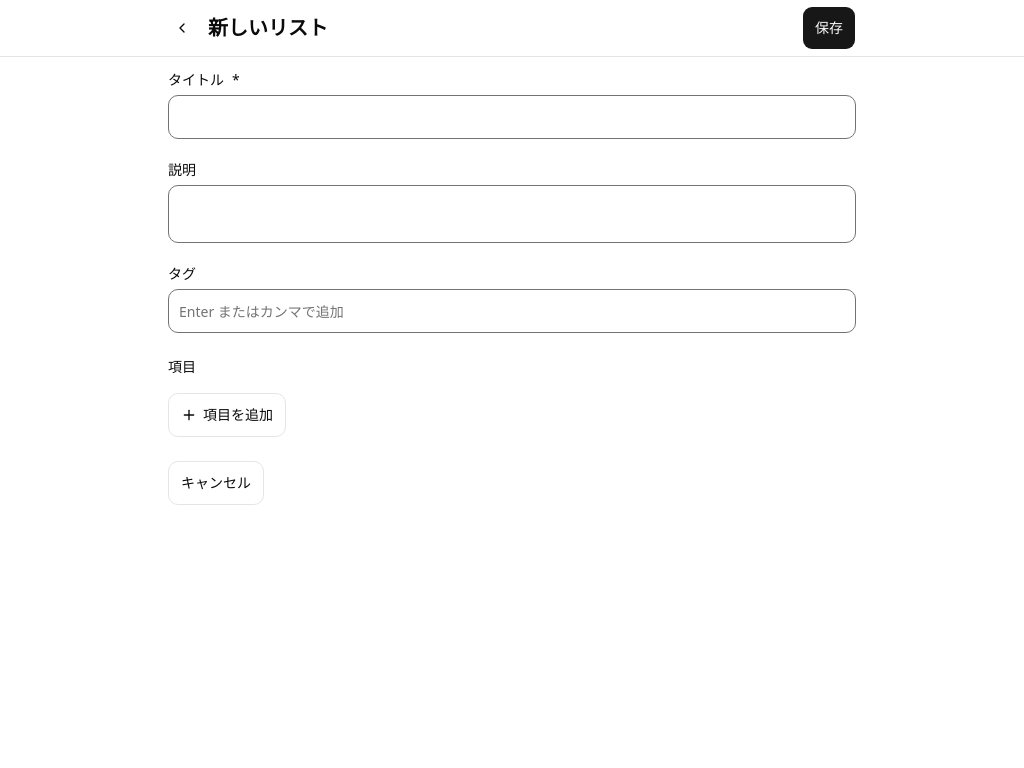
Test: ListEdit（新規作成） › 検証エラーは欄の直下に出して保存を止め、最初のエラー欄にフォーカスする。空行は捨てない
Expected: the heading "新しいリスト" is shown, [208,14,328,41]
Click the button "項目を追加": {"x": 227, "y": 415} [168,393,286,437]
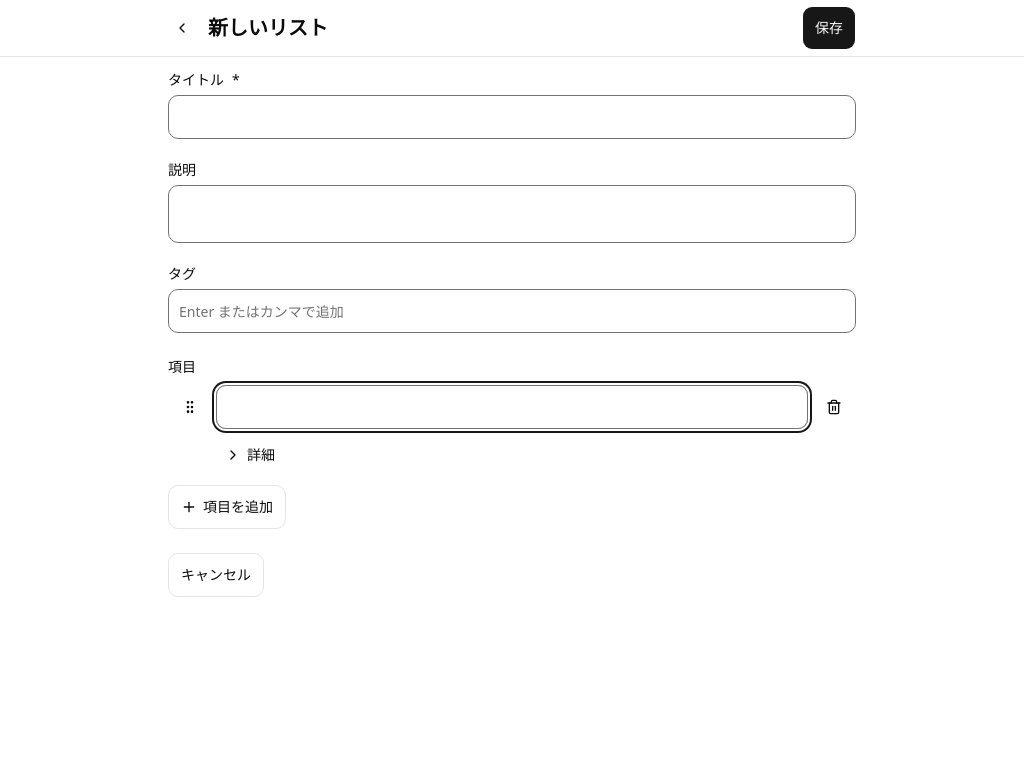
In the field named "項目 1": {"x": 512, "y": 407} [216,385,808,429], type "一つ目"
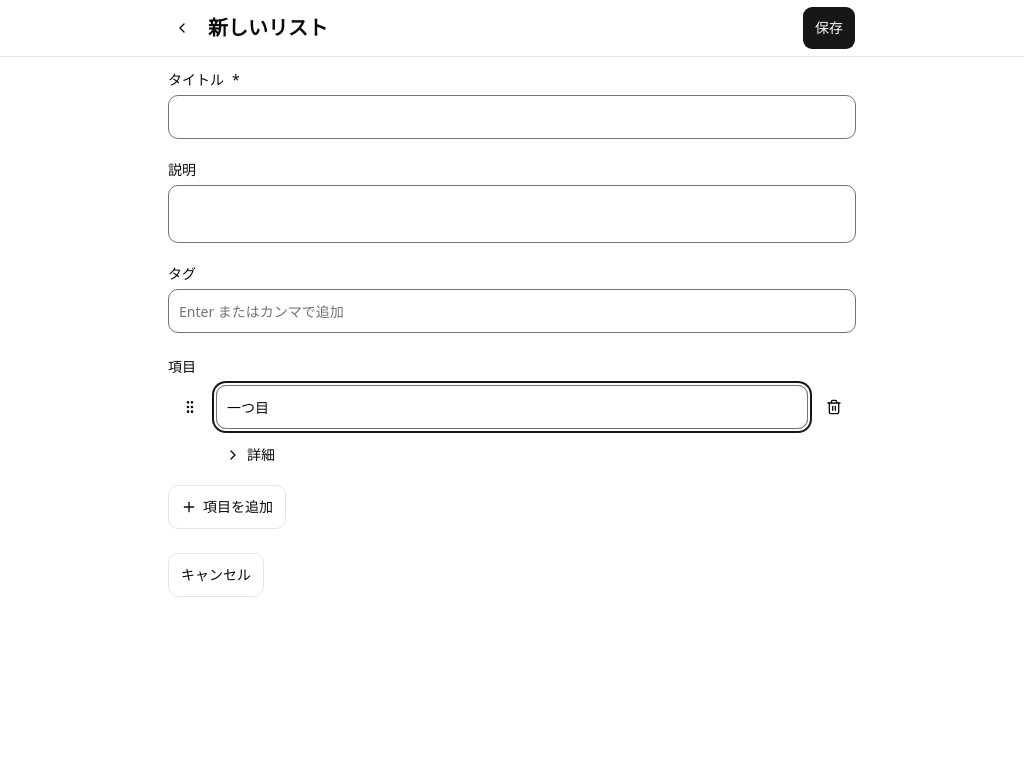
Click the button "項目を追加": {"x": 227, "y": 507} [168,485,286,529]
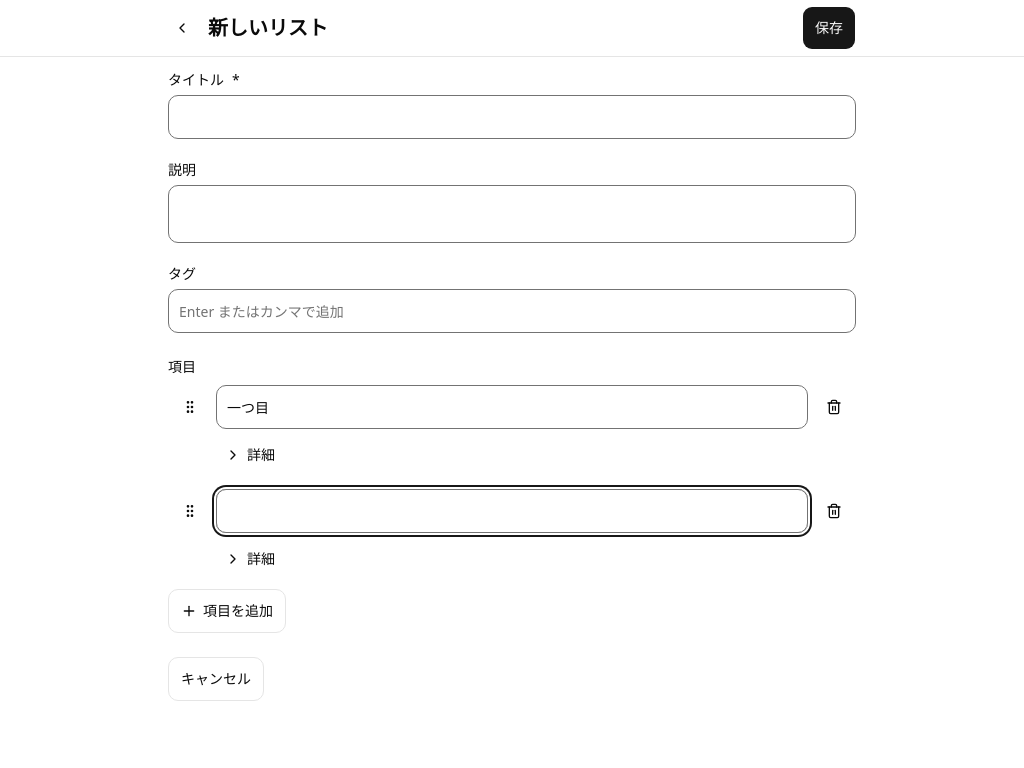
Click the button "保存": {"x": 829, "y": 28} [802,6,856,50]
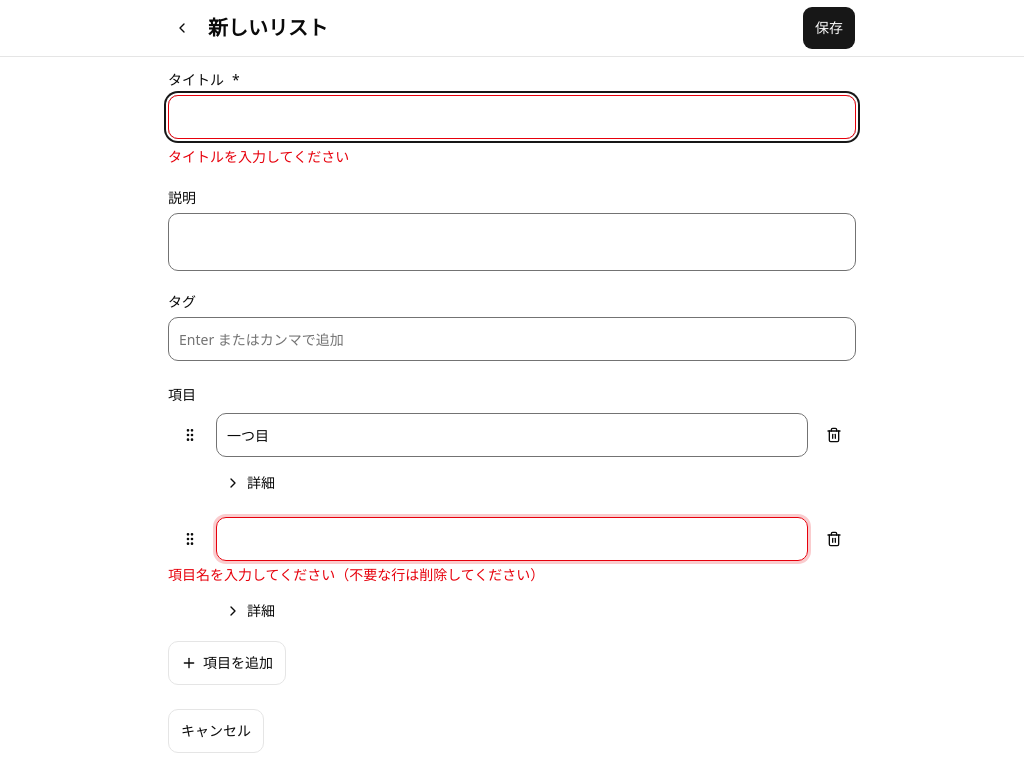
Expected: the number of fields named "項目 1" is 2, [216,413,808,457]; [216,517,808,561]
Expected: the text "タイトルを入力してください" is shown, [168,147,349,166]
